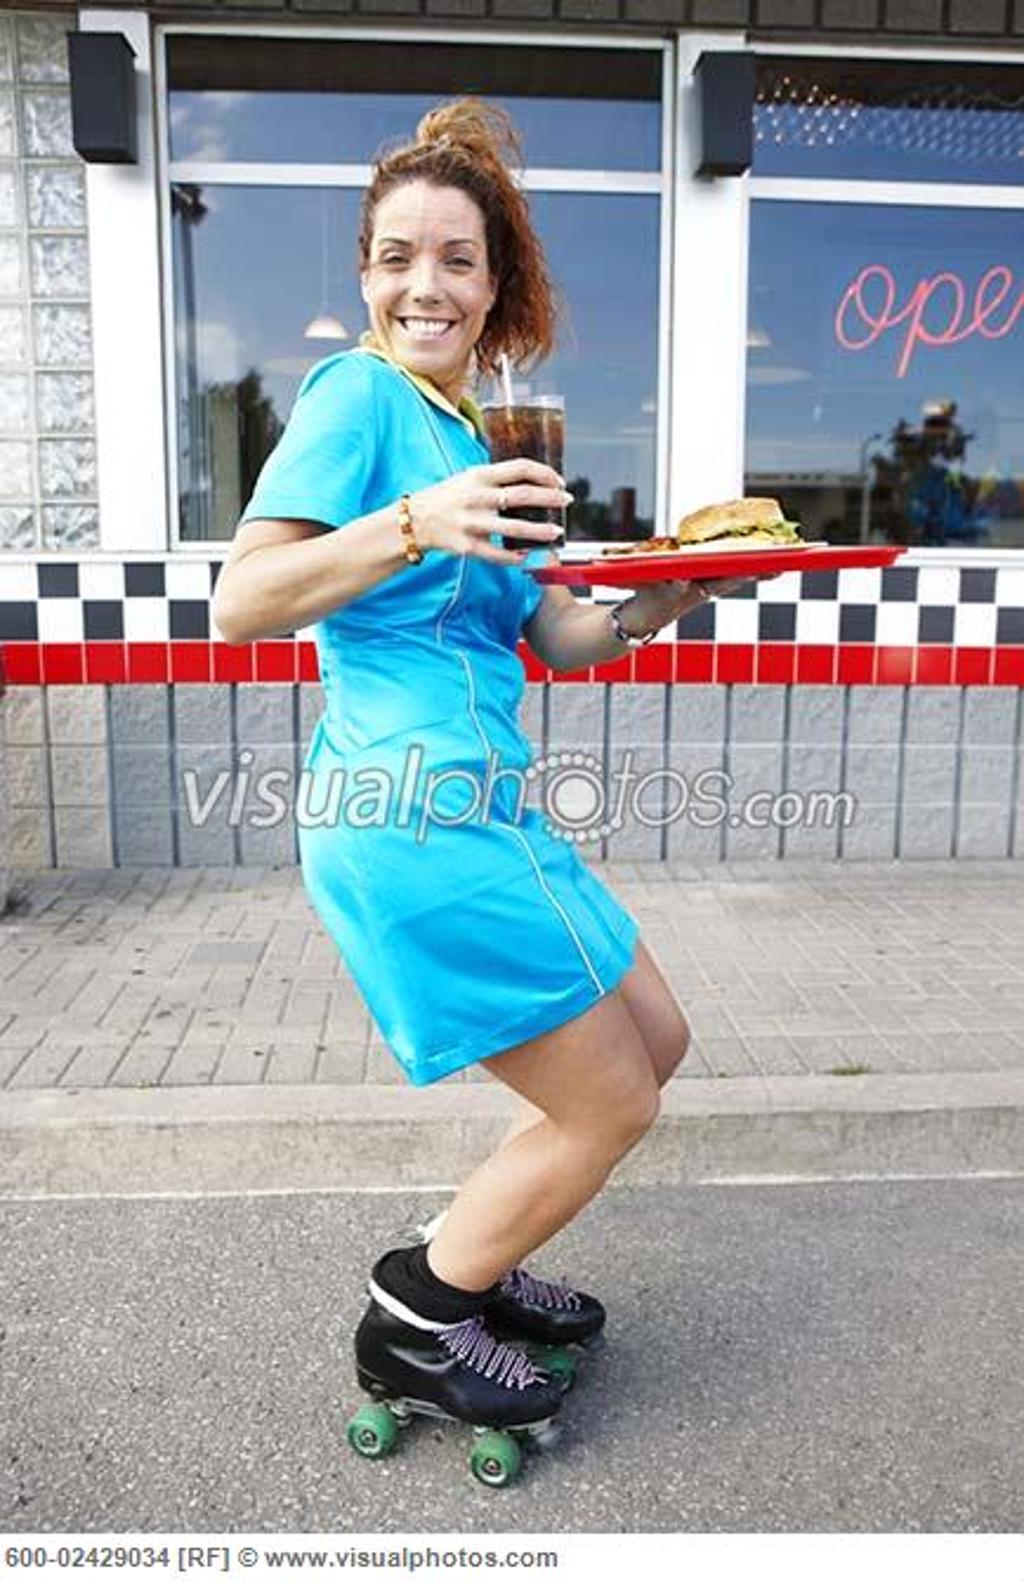face: (364, 179, 500, 370)
